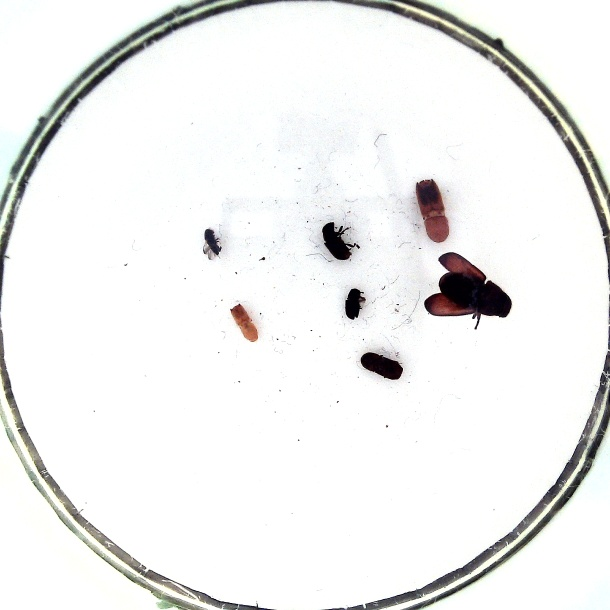acuminatus: (345, 288, 361, 319), (204, 229, 221, 255)
armandi: (322, 221, 352, 260)
boerner: (416, 178, 449, 242)
leconte: (438, 271, 511, 318)
linnaeus: (360, 351, 403, 379), (230, 303, 258, 342)
